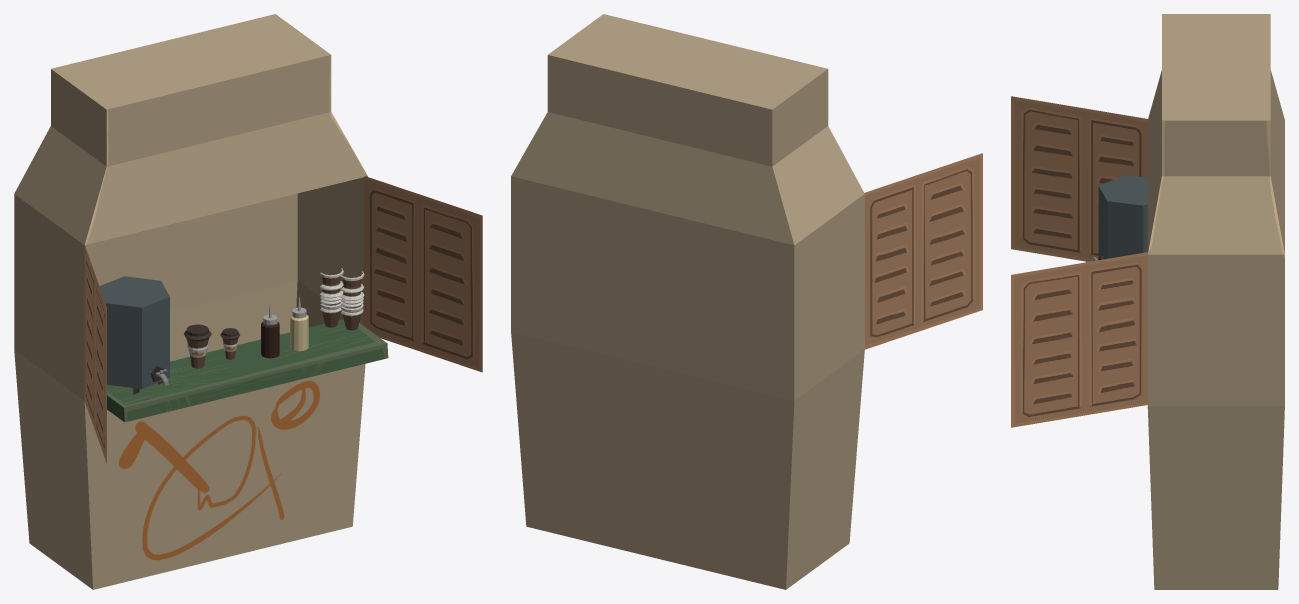
File: CafeT.fbx
3 views of the same model, side by side, from view 1: azimuth 30°, elevation 25°; view 2: azimuth 150°, elevation 25°; view 3: azimuth 270°, elevation 25° (orthographic). The views are drawn at different scales.
Visible parts, largest first — view 1: puesto_cafe001 (×7); view 2: puesto_cafe001 (×2); view 3: puesto_cafe001 (×3).
Boxes of the visible parts, box(x1,y1,x2,y2) form: puesto_cafe001 (×7): box(14, 14, 482, 589); puesto_cafe001 (×2): box(511, 14, 982, 589); puesto_cafe001 (×3): box(1011, 14, 1284, 589).
Size of the model in its own units: 78.94 by 94.95 by 51.15.
Materials: 9 (9 with a texture image).
